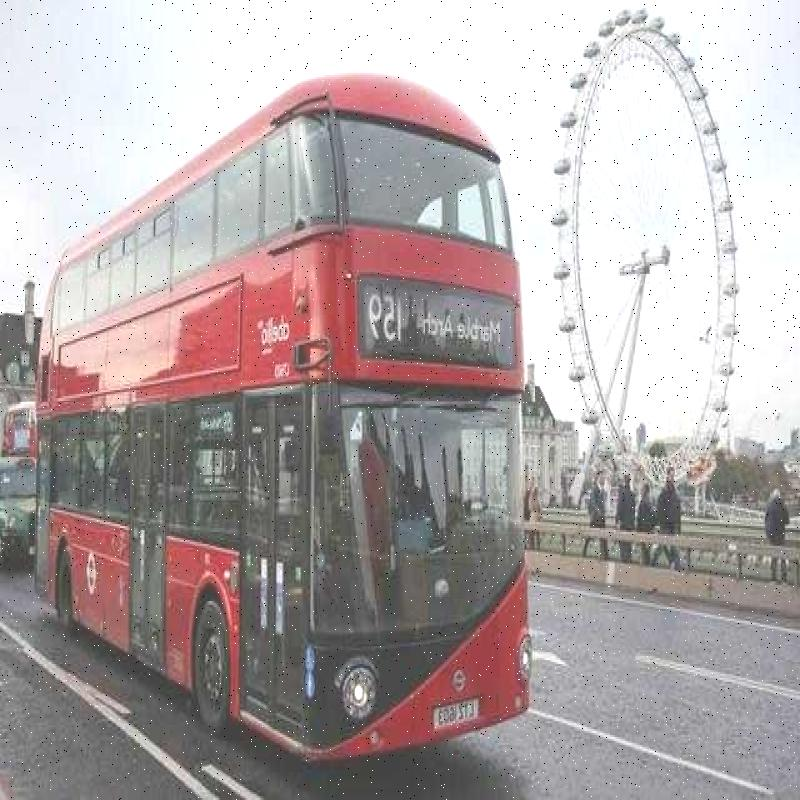bus: (14, 49, 538, 771)
